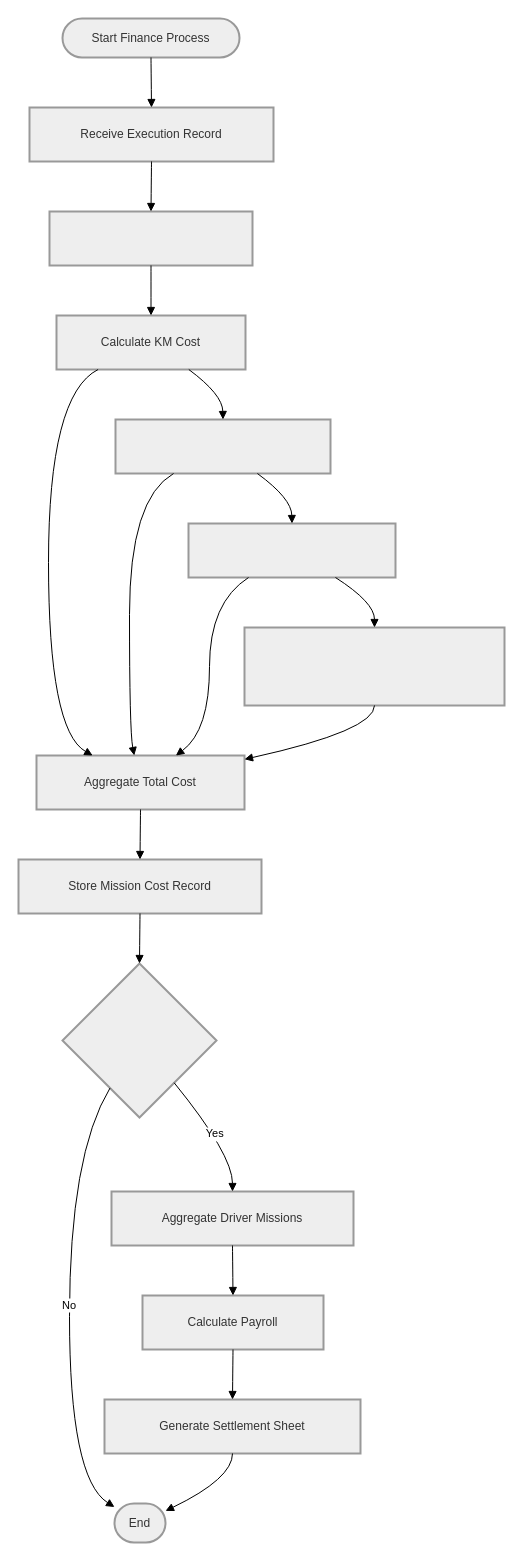
Some shapes in this 522 by 1560 pixel diagram are drawn without their labels. Here are the shapes that lost their labels. From the top down, the centre of each, then its label:
the point at 150,238: Load Contract Rules
the point at 222,446: Calculate Hourly Cost
the point at 291,550: Calculate Sleep Cost
the point at 374,666: Apply Penalties / Extra Fees
the point at 139,1040: End of Month?
